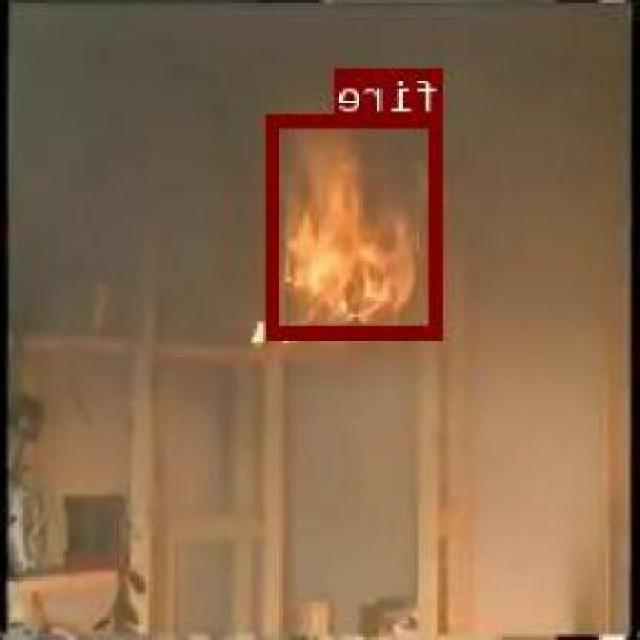Smoke: (271, 114, 444, 334)
